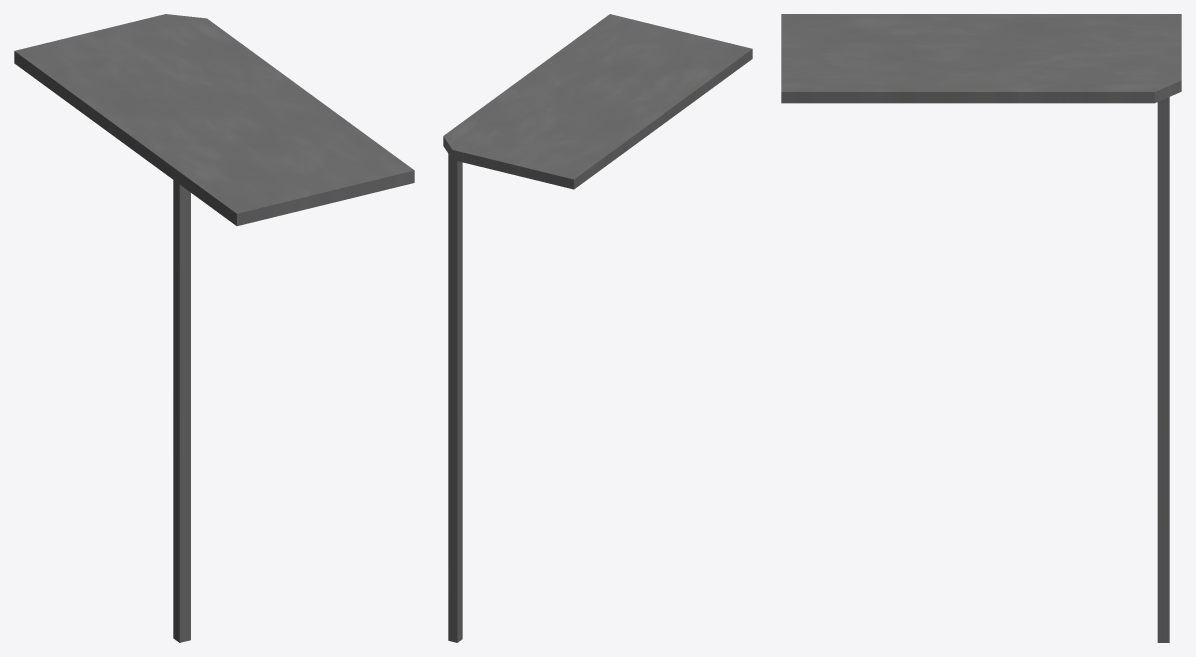
File: longplatform.glb
3 renders of one model, left to right at view 1: azimuth 30°, elevation 25°; view 2: azimuth 150°, elevation 25°; view 3: azimuth 270°, elevation 25°, orthographic. The views are drawn at different scales.
Visible parts, largest first — view 1: Plane.003; view 2: Plane.003; view 3: Plane.003.
Boxes of the visible parts, box(x1,y1,x2,y2) form: Plane.003: box(14, 14, 414, 642); Plane.003: box(443, 14, 752, 642); Plane.003: box(781, 14, 1181, 642).
Size of the model in its own units: 3.11 by 10.34 by 6.74.
Materials: 1 (1 with a texture image).
